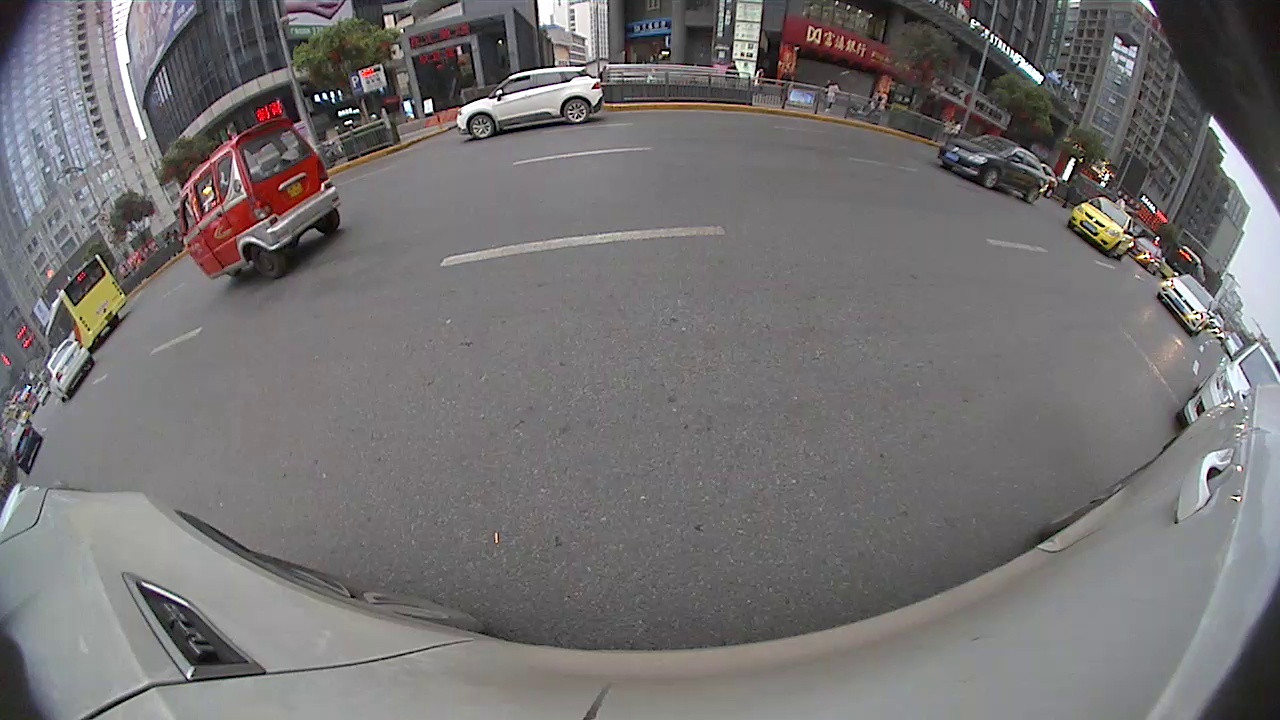bus: (40, 252, 131, 350)
car: (453, 65, 606, 140), (1175, 340, 1279, 429), (934, 130, 1053, 205), (1065, 194, 1136, 263), (1153, 273, 1218, 336), (39, 339, 96, 401)
front: (467, 112, 497, 142), (980, 167, 1000, 189)
rear: (246, 240, 289, 281), (561, 98, 591, 127), (1021, 184, 1041, 207)
rider: (172, 113, 343, 284)
